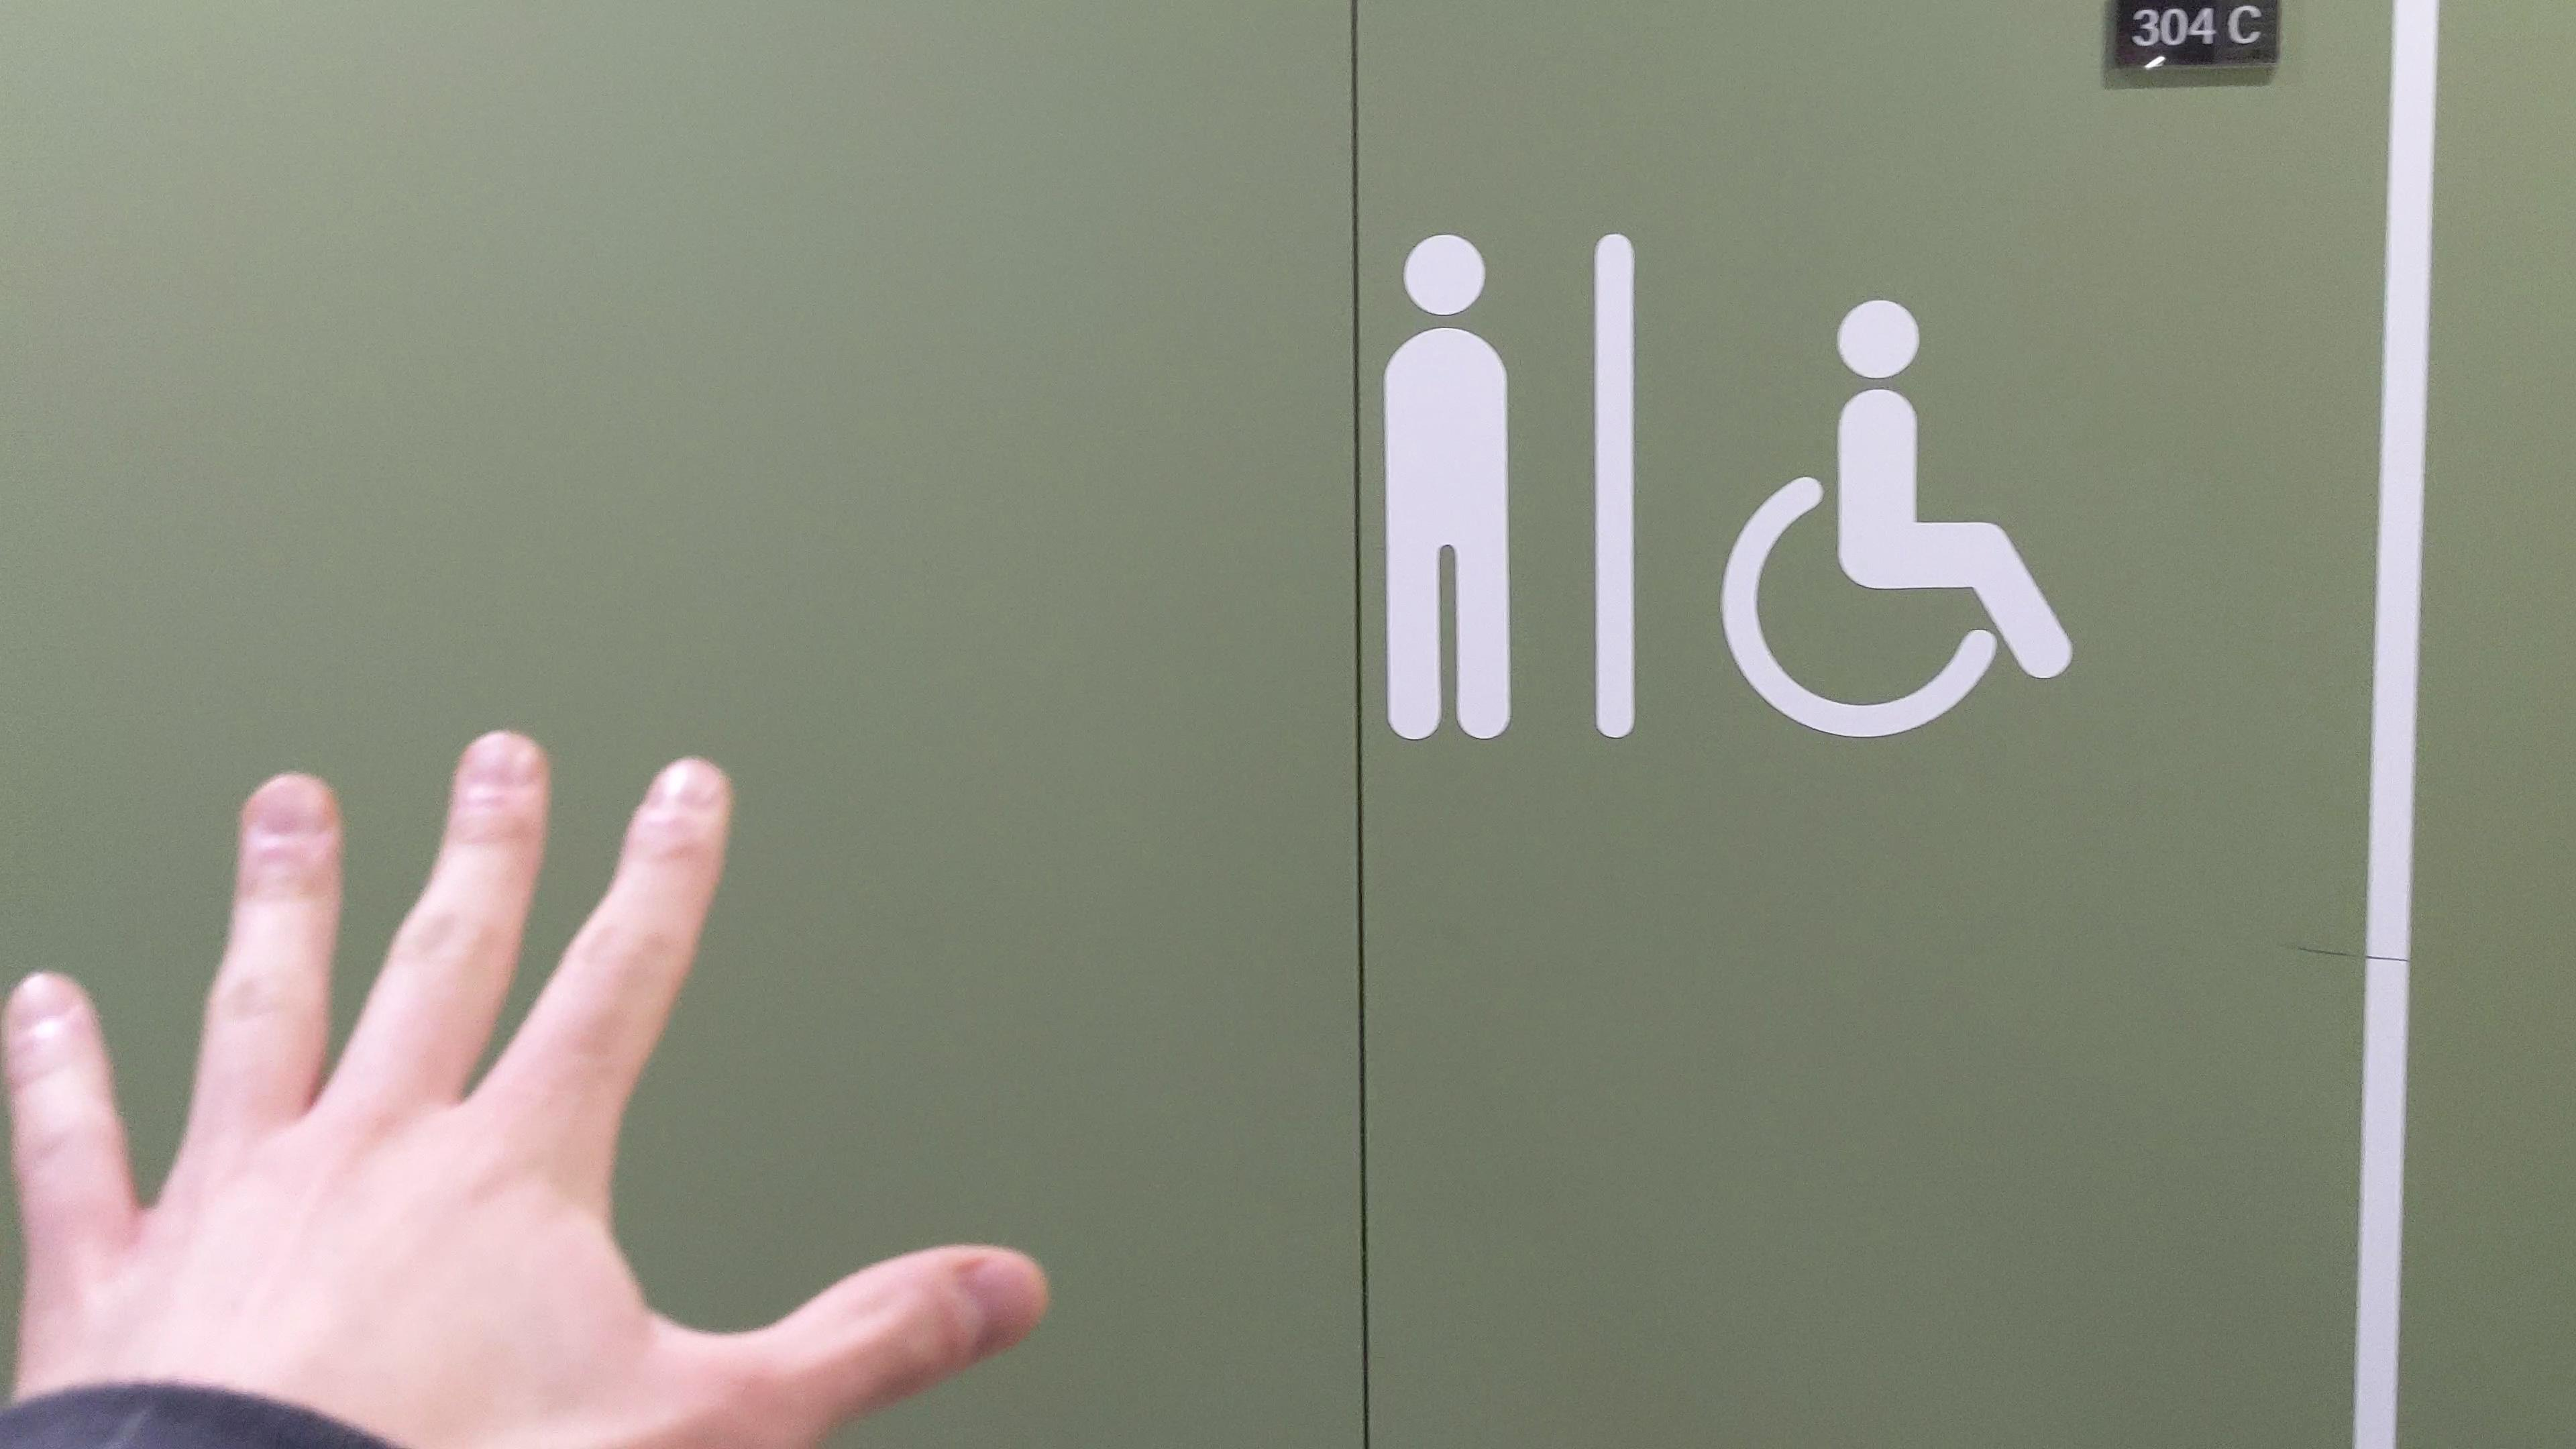handicapped symbol: (1714, 290, 2082, 743)
